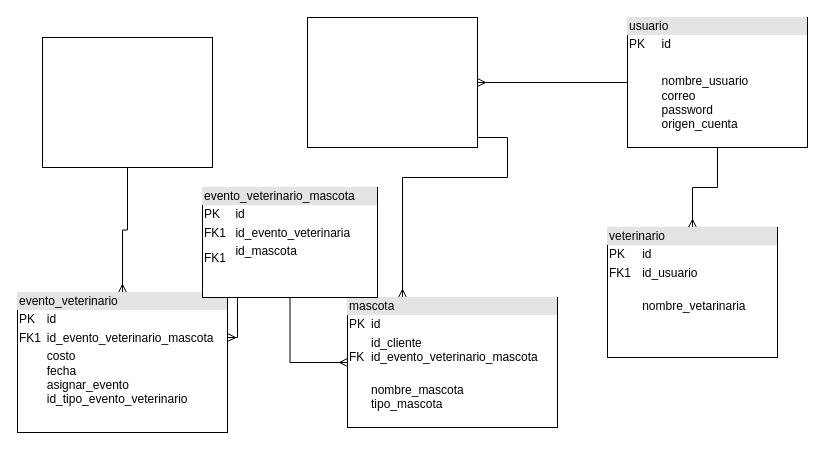
The diagram is 825 pixels wide and 450 high, and some of its shapes have lost their labels. Each missing label, with the centre of its shape:
"cliente PK id FK1 id_usuario" goes at pixel 392 82.
"tipo_evento_veterinario PK id nombre_evento" goes at pixel 127 102.
